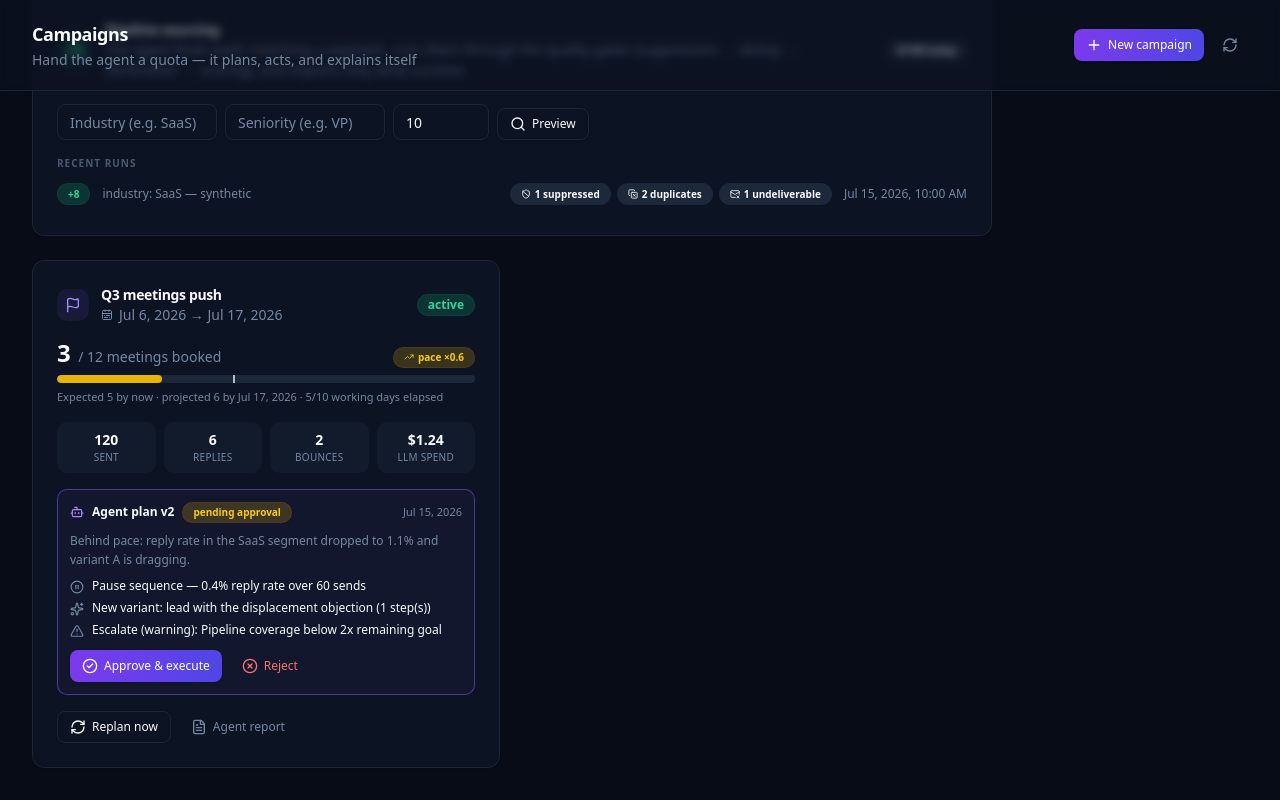
Test: Campaigns page › approves a plan and reports execution
(page scrolled)
Expected: the text "Agent plan v2" is shown, [92,504,174,520]
Click the button "Approve & execute": coordinates (146, 666) [70,650,222,682]
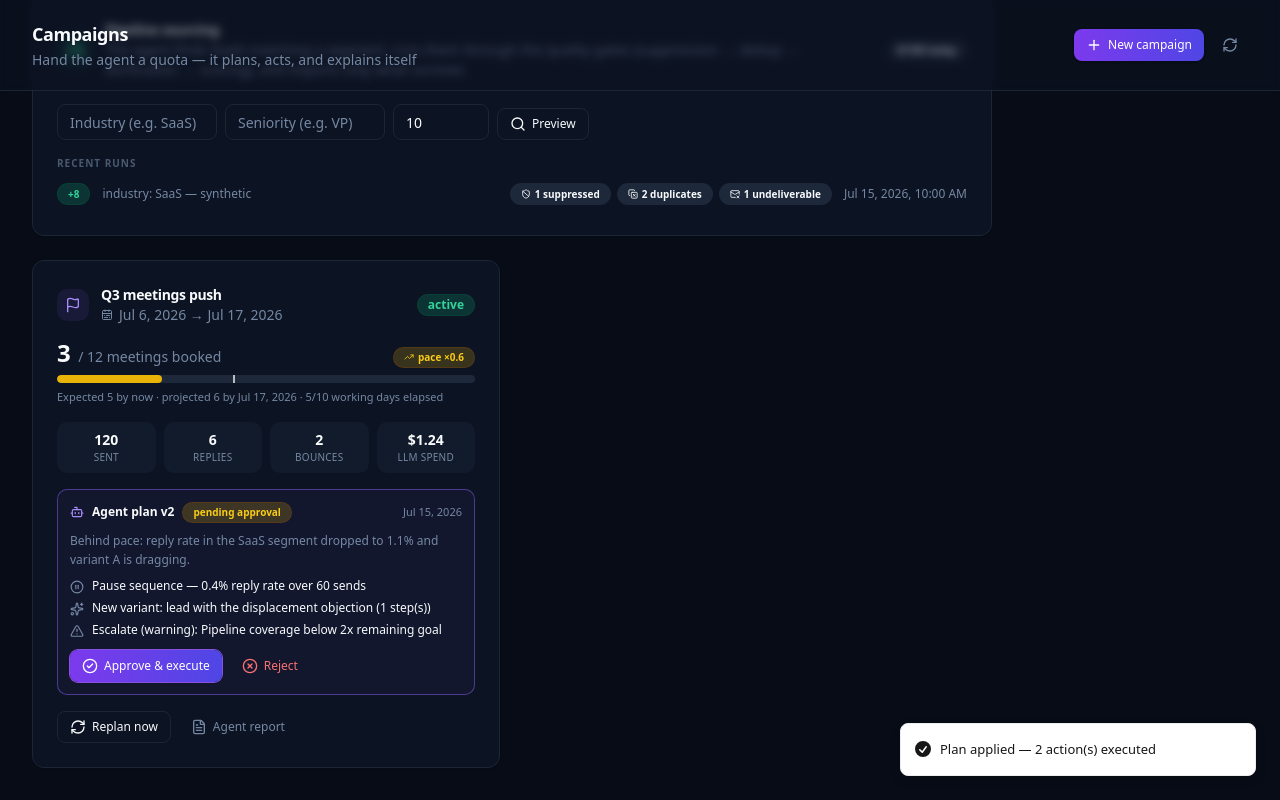
Now the text "Plan applied — 2 action(s) executed" is shown, box [940,740,1156,759]
